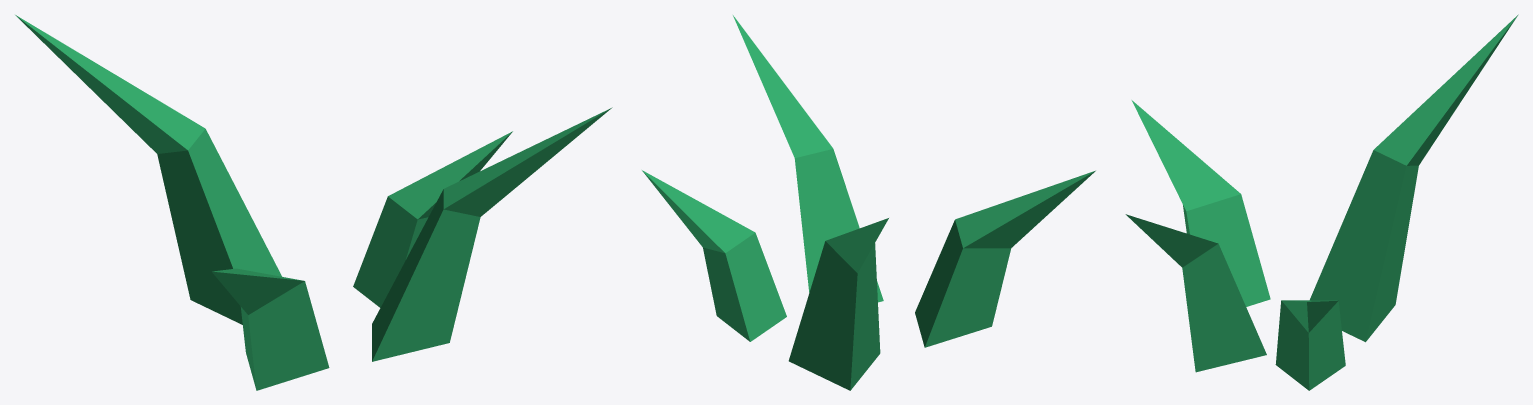
The model's file is grass2.glb.
The picture shows the model from 3 angles, left to right: view 1: azimuth 30°, elevation 25°; view 2: azimuth 150°, elevation 25°; view 3: azimuth 270°, elevation 25°; orthographic projection. The views are drawn at different scales.
Visible parts, largest first — view 1: Circle005_Grass_0; view 2: Circle005_Grass_0; view 3: Circle005_Grass_0.
Boxes of the visible parts, bbox=[...] form: Circle005_Grass_0: bbox=[15, 15, 612, 390]; Circle005_Grass_0: bbox=[642, 15, 1095, 390]; Circle005_Grass_0: bbox=[1125, 14, 1518, 390].
Size of the model in its own units: 8.86 by 5.61 by 8.27.
